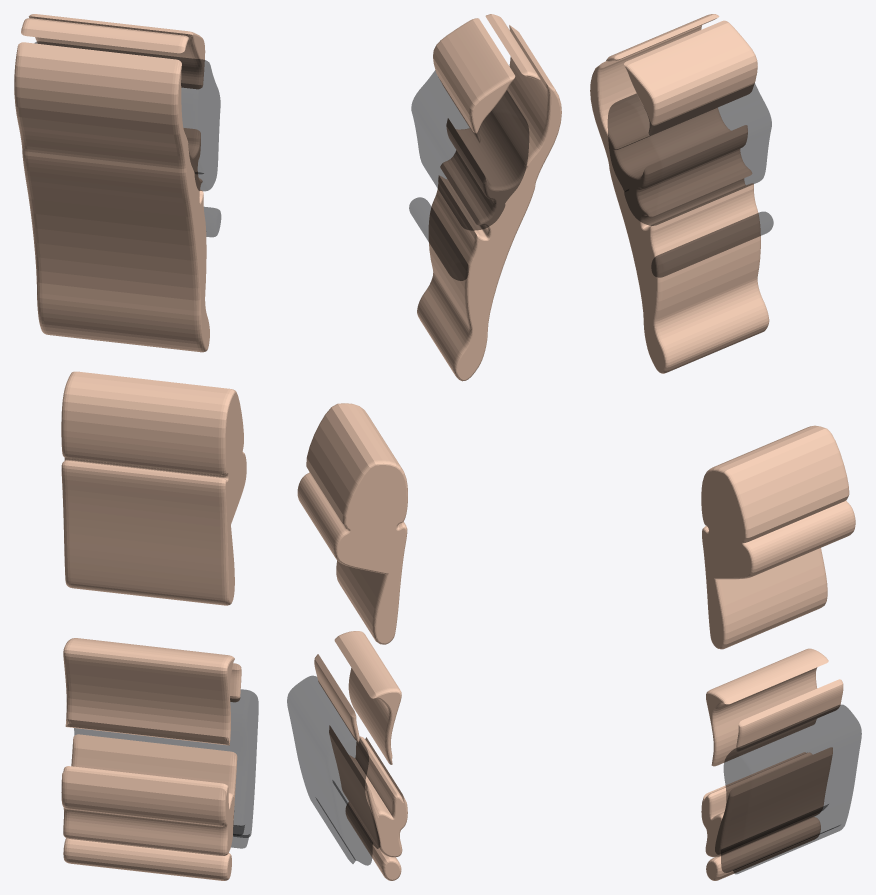
3 views of the same model, side by side, from view 1: azimuth 30°, elevation 25°; view 2: azimuth 150°, elevation 25°; view 3: azimuth 270°, elevation 25° (orthographic). The views are drawn at different scales.
Bounding box in the file's own units: 4.2 × 13.09 × 4.11.
